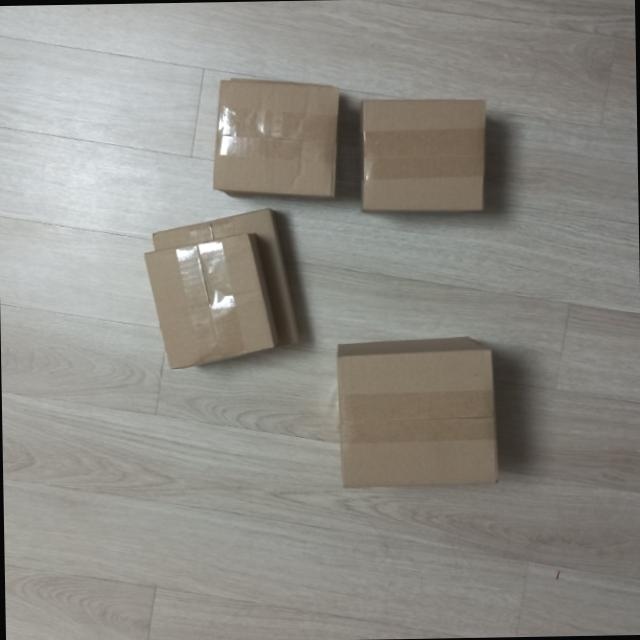box: (337, 338, 499, 488), (145, 230, 275, 371), (210, 77, 343, 199), (357, 96, 489, 216)
